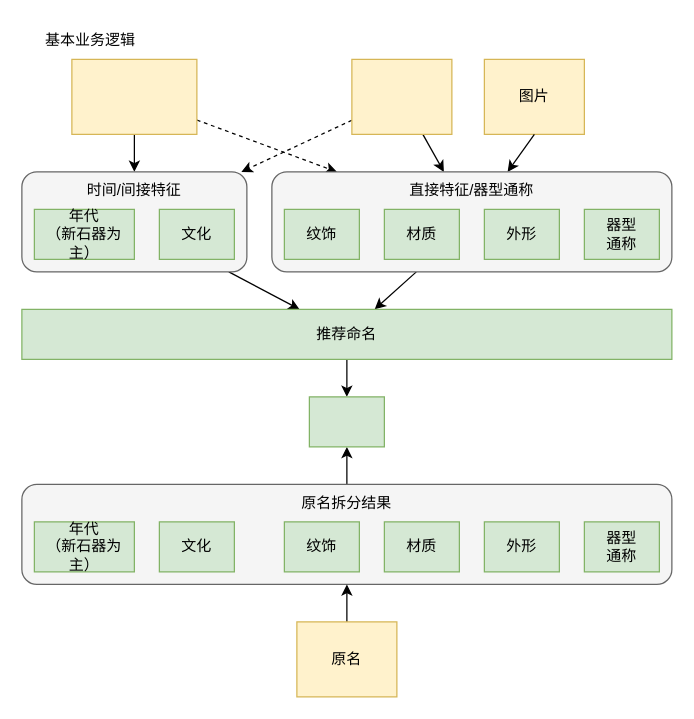
This 694x719 diagram has some shape labels left out. The box of each missing label's shape, as (x1, y1, x2, y2) in pixels:
对比: (308, 396, 384, 447)
描述文本 （外观为主）: (351, 58, 452, 134)
结构化信息 （时间/文化为主）: (71, 58, 197, 134)
